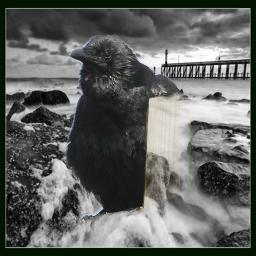Crow: (61, 34, 180, 221)
